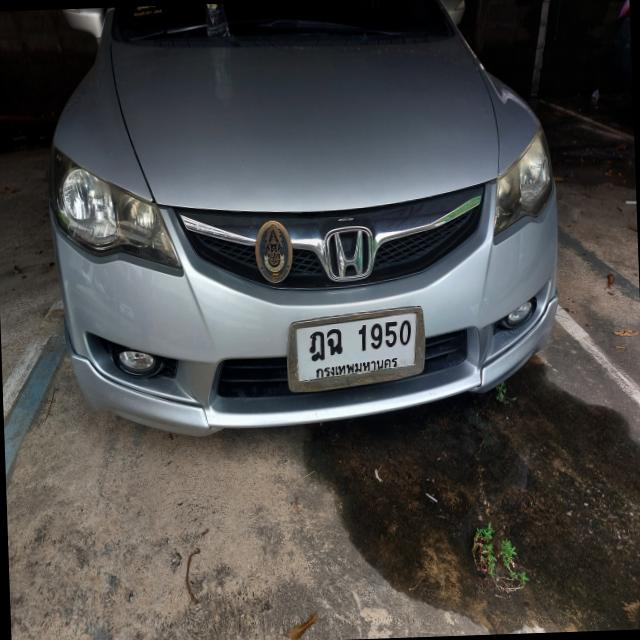license_plate: (282, 303, 428, 398)
